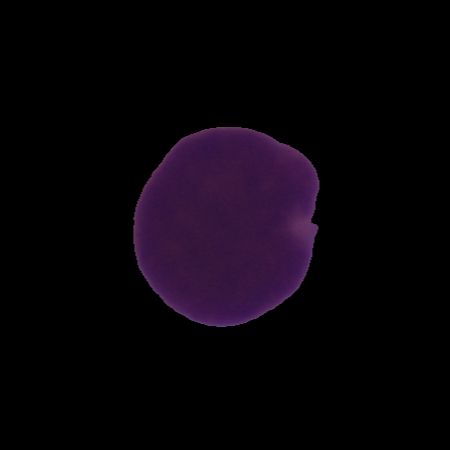ALL: (130, 123, 323, 330)
